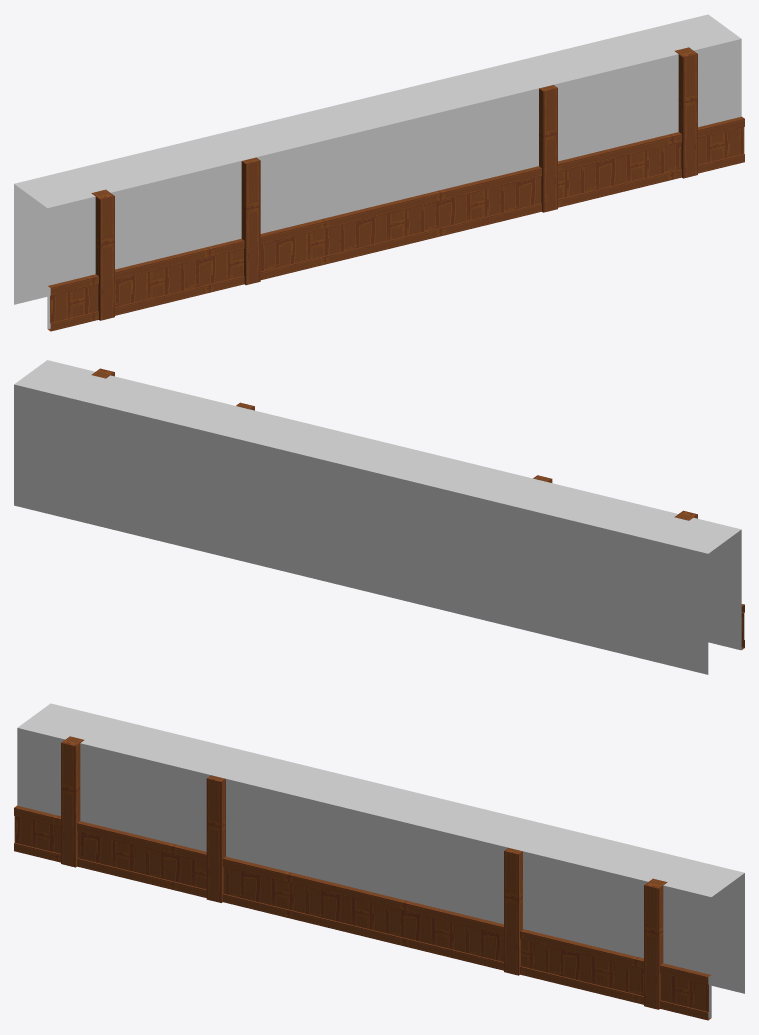
File: Wall-WoodDetailed.fbx
The picture shows the model from 3 angles, top to bottom: view 1: azimuth 30°, elevation 25°; view 2: azimuth 150°, elevation 25°; view 3: azimuth 330°, elevation 25°; orthographic projection.
Parts seen in each view (by area): view 1: Wall-WoodDetailed; view 2: Wall-WoodDetailed; view 3: Wall-WoodDetailed.
Boxes of the visible parts, left/top/right/bottom form: Wall-WoodDetailed: left=14, top=14, right=744, bottom=331; Wall-WoodDetailed: left=14, top=360, right=744, bottom=674; Wall-WoodDetailed: left=14, top=703, right=744, bottom=1020.
Bounding box in the file's own units: 6 × 1 × 0.5678.
